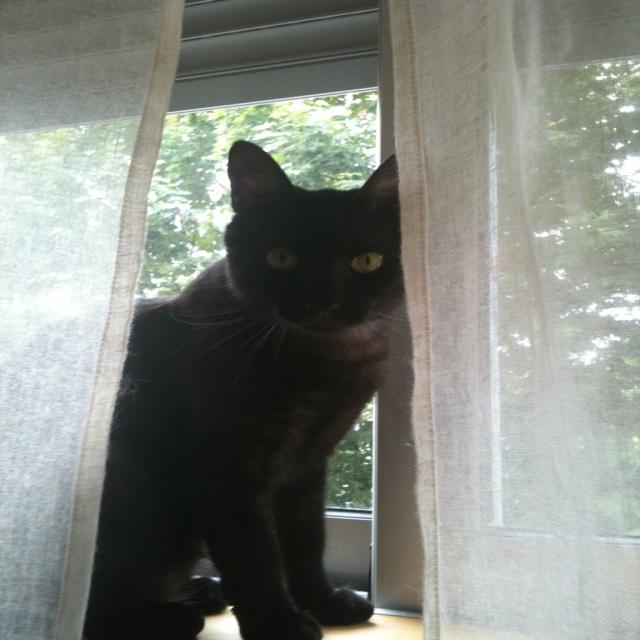Cat: (84, 124, 413, 639)
